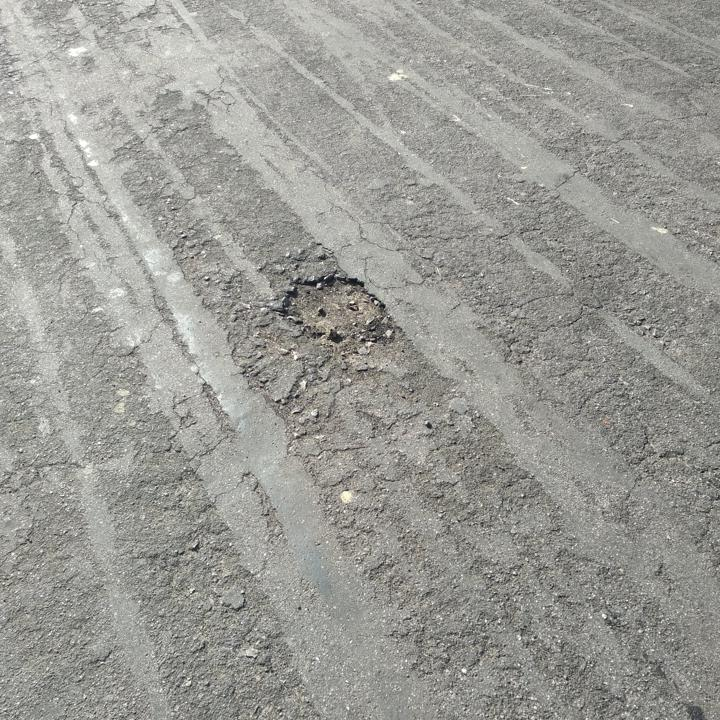pothole: (276, 272, 394, 344)
